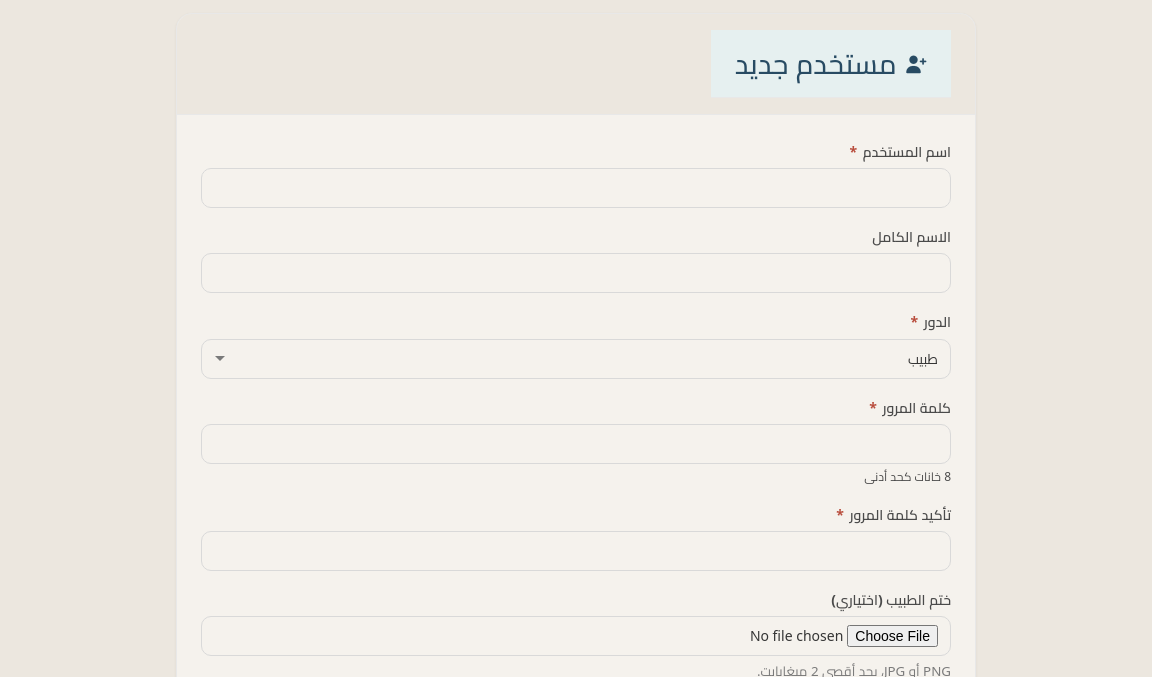
Test: user form validation and opening versions › rejects mismatch before creating an account
The width and height of the screenshot is (1152, 677).
In the field labelled "اسم المستخدم *": [576, 188] box left=201, top=168, right=951, bottom=208, type "synthetic_new"
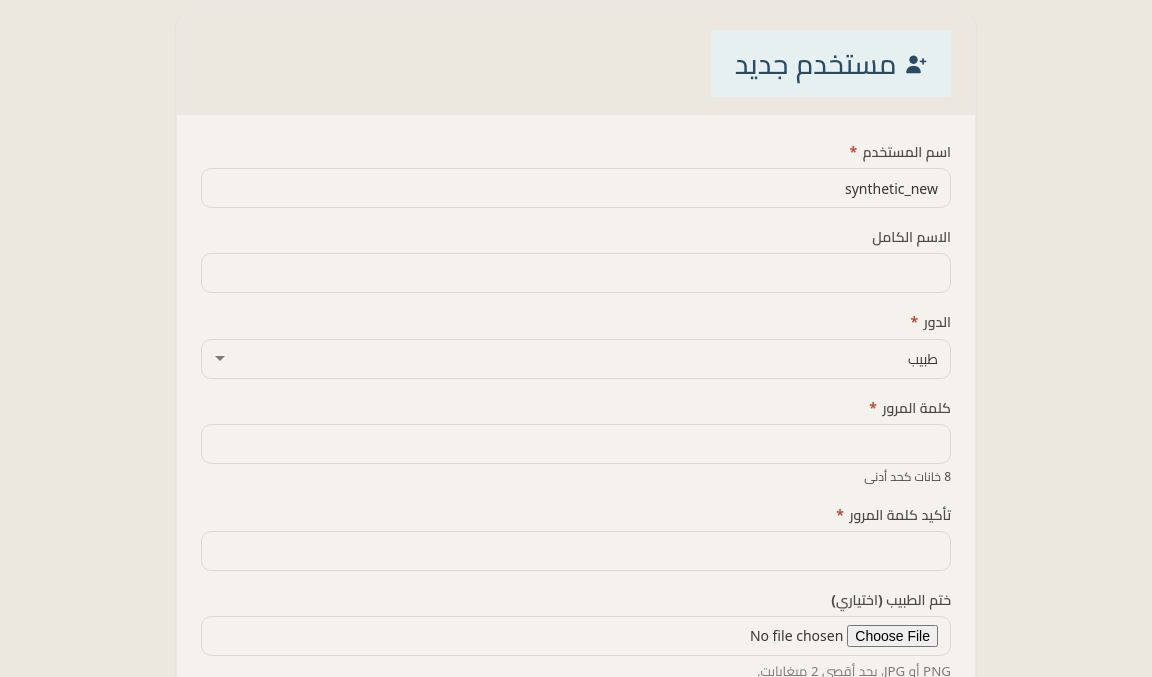
In the password field labelled "كلمة المرور *": [576, 444] box left=201, top=424, right=951, bottom=464, type "Synthetic-Suite-Pass!42"
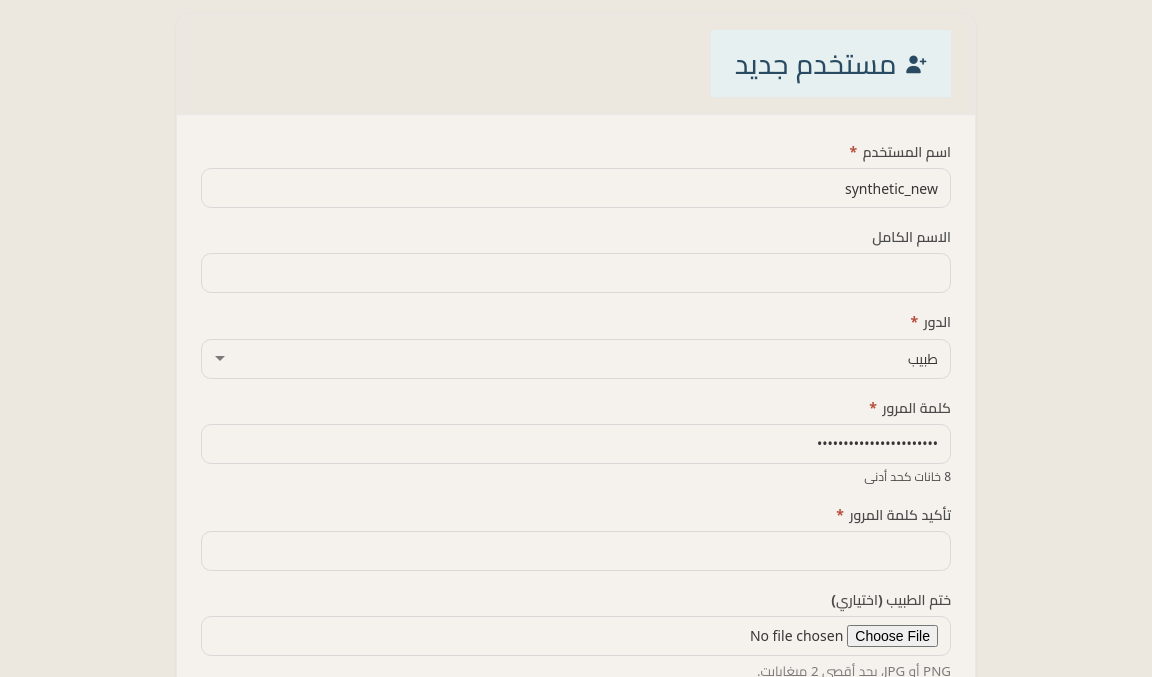
In the password field labelled "تأكيد كلمة المرور *": [576, 551] box left=201, top=531, right=951, bottom=571, type "Different-Pass!42"
(page scrolled)
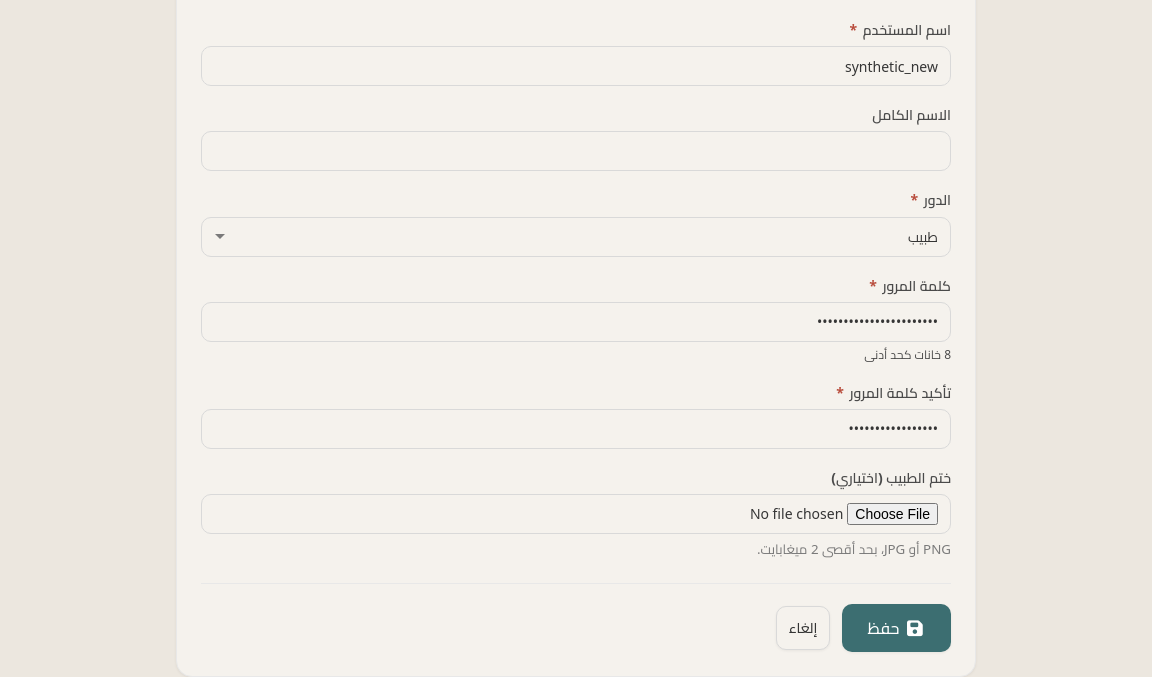
Submit the form
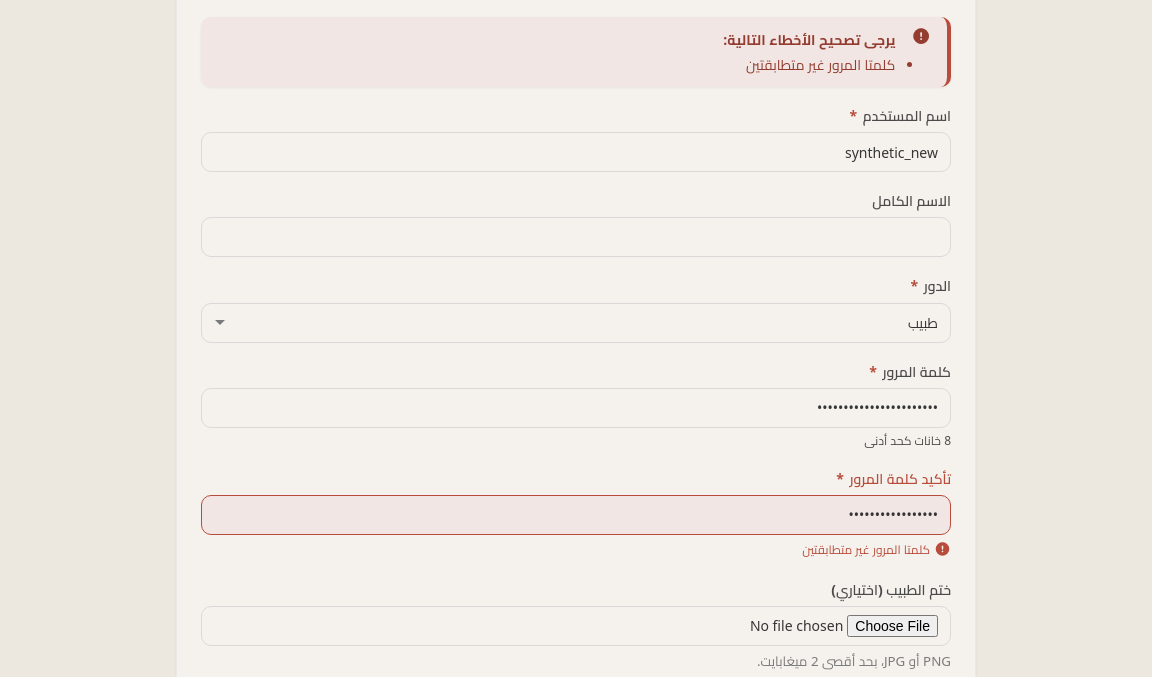
Result: the element with class "alert--danger" is shown at left=201, top=17, right=951, bottom=87
